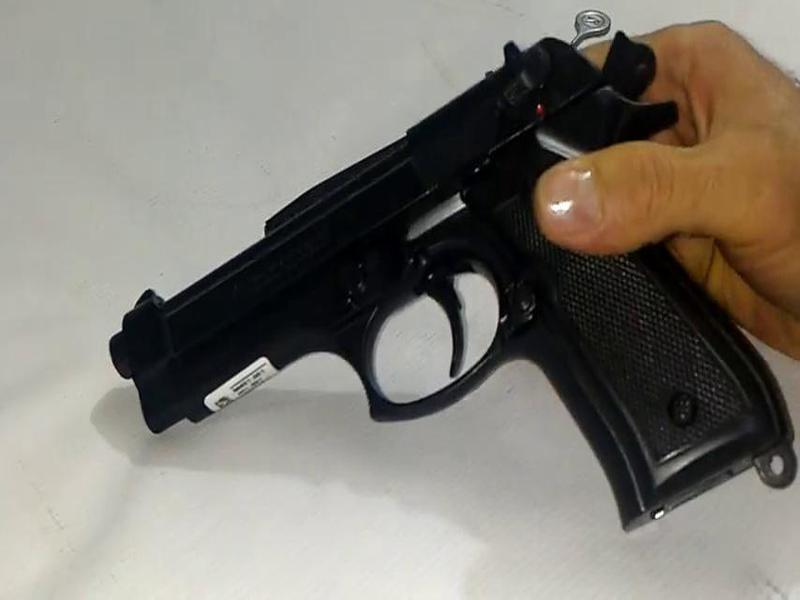Pistola: (97, 51, 780, 531)
